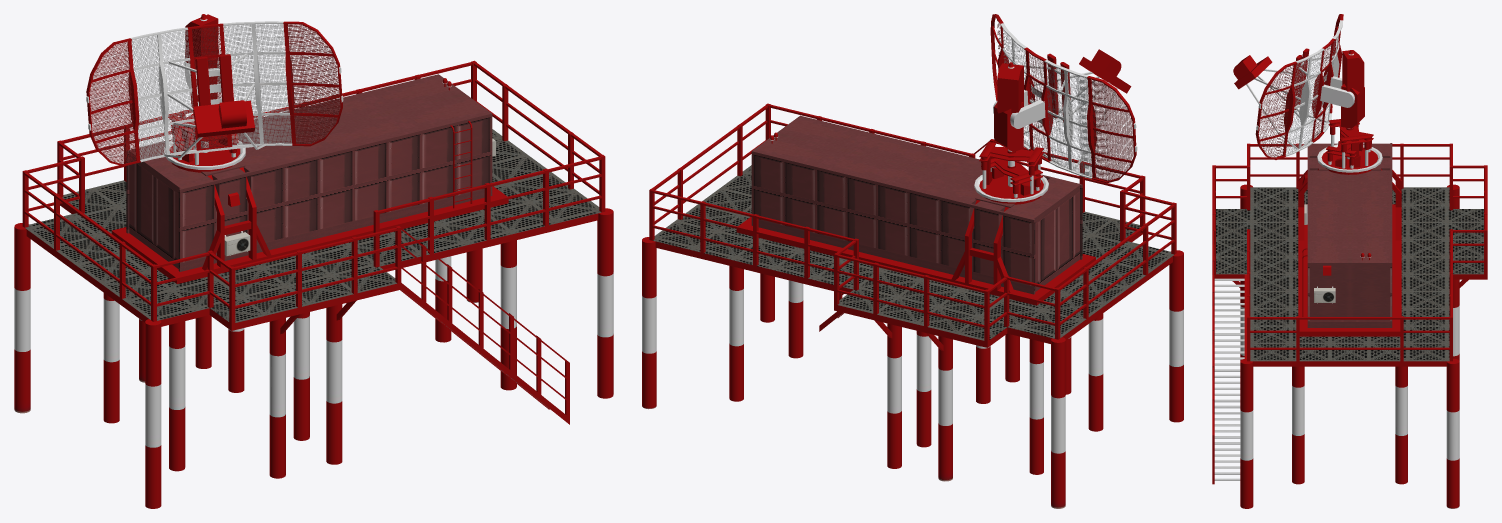
Rendered from radar.fbx.
3 views of the same model, side by side, from view 1: azimuth 30°, elevation 25°; view 2: azimuth 150°, elevation 25°; view 3: azimuth 270°, elevation 25° (orthographic). The views are drawn at different scales.
Parts seen in each view (by area): view 1: Container, Radar, Metal_Floor, Pillars, Fence, Container_Base, Container_Support, Container_Details; view 2: Container, Pillars, Metal_Floor, Radar, Fence, Container_Base, Container_Support; view 3: Metal_Floor, Container, Radar, Pillars, Fence, Stair, Container_Base, Container_Support, Conditioners.
Boxes of the visible parts, bbox=[...] form: Container: bbox=[126, 74, 492, 271]; Radar: bbox=[86, 14, 343, 172]; Metal_Floor: bbox=[25, 129, 601, 424]; Pillars: bbox=[14, 78, 613, 508]; Fence: bbox=[22, 60, 605, 417]; Container_Base: bbox=[111, 186, 508, 283]; Container_Support: bbox=[202, 167, 270, 270]; Container_Details: bbox=[228, 121, 472, 208]; Container: bbox=[751, 115, 1082, 294]; Pillars: bbox=[642, 132, 1183, 508]; Metal_Floor: bbox=[653, 165, 1174, 347]; Radar: bbox=[974, 14, 1137, 204]; Fence: bbox=[649, 103, 1176, 341]; Container_Base: bbox=[736, 217, 1095, 305]; Container_Support: bbox=[951, 200, 1014, 293]; Metal_Floor: bbox=[1212, 187, 1487, 484]; Container: bbox=[1307, 143, 1392, 327]; Radar: bbox=[1233, 14, 1382, 174]; Pillars: bbox=[1240, 184, 1459, 508]; Fence: bbox=[1212, 143, 1487, 478]; Stair: bbox=[1214, 278, 1244, 480]; Container_Base: bbox=[1298, 204, 1401, 336]; Container_Support: bbox=[1298, 169, 1401, 240]; Conditioners: bbox=[1304, 204, 1335, 303].
Size of the model in its own units: 1246 by 1071 by 800.
7 materials, 7 textured.
